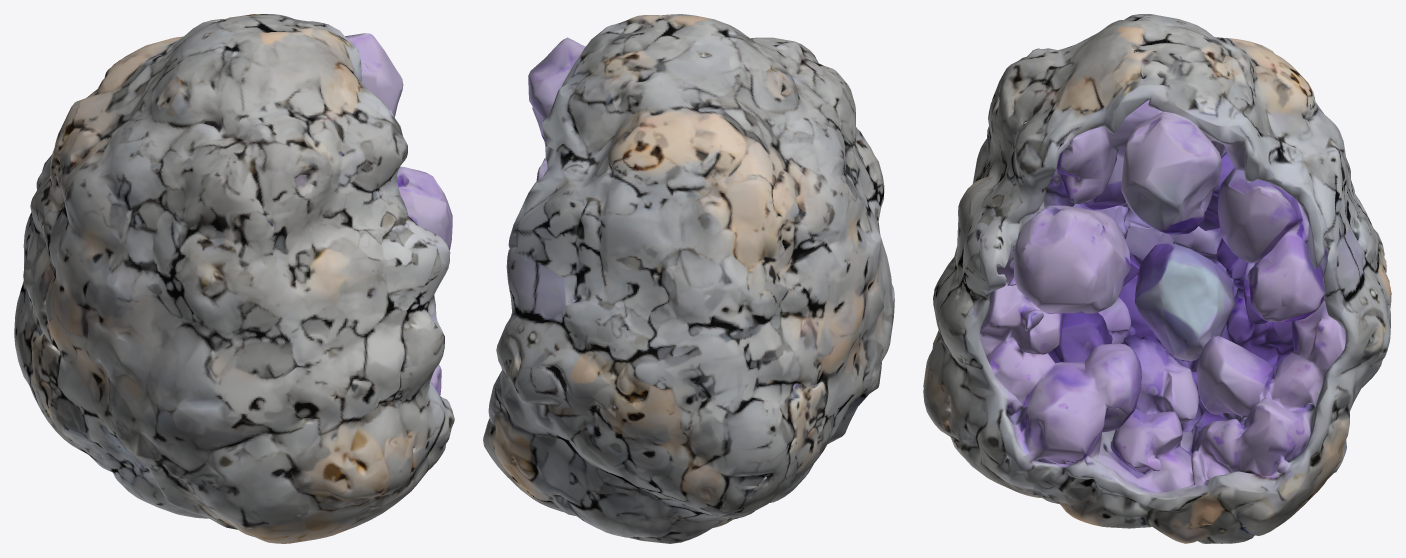
File: nature-rock-crystal-geode.glb
3 views of the same model, side by side, from view 1: azimuth 30°, elevation 25°; view 2: azimuth 150°, elevation 25°; view 3: azimuth 270°, elevation 25° (orthographic). The views are drawn at different scales.
Visible parts, largest first — view 1: tripo_node_35ecb809-9f4c-4de9-b83c-581cad03d32c; view 2: tripo_node_35ecb809-9f4c-4de9-b83c-581cad03d32c; view 3: tripo_node_35ecb809-9f4c-4de9-b83c-581cad03d32c.
Part boxes in pixels (left/top/right/bottom): tripo_node_35ecb809-9f4c-4de9-b83c-581cad03d32c: left=14, top=14, right=454, bottom=543; tripo_node_35ecb809-9f4c-4de9-b83c-581cad03d32c: left=483, top=14, right=894, bottom=543; tripo_node_35ecb809-9f4c-4de9-b83c-581cad03d32c: left=923, top=14, right=1391, bottom=543.
Bounding box in the file's own units: 0.6986 × 0.9995 × 0.8814.
Materials: 1 (1 with a texture image).
